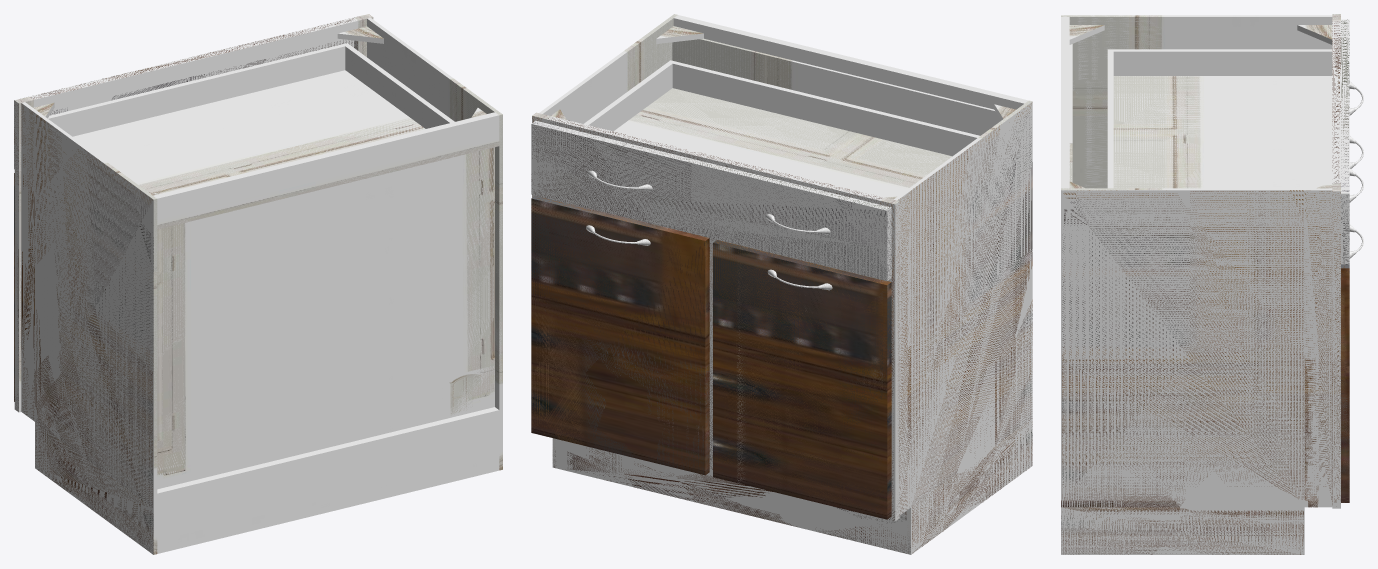
3 renders of one model, left to right at view 1: azimuth 30°, elevation 25°; view 2: azimuth 150°, elevation 25°; view 3: azimuth 270°, elevation 25°, orthographic. The views are drawn at different scales.
Parts seen in each view (by area): view 1: mesh18_mesh18-geometry, mesh14_mesh14-geometry, mesh16_mesh16-geometry, mesh23_mesh23-geometry, mesh17_mesh17-geometry, mesh21_mesh21-geometry, mesh9_mesh9-geometry, mesh2_mesh2-geometry, mesh15_mesh15-geometry, mesh13_mesh13-geometry, mesh1_mesh1-geometry, mesh20_mesh20-geometry (+2 smaller); view 2: mesh33_mesh33-geometry, mesh29_mesh29-geometry, mesh14_mesh14-geometry, mesh25_mesh25-geometry, mesh23_mesh23-geometry, mesh19_mesh19-geometry, mesh18_mesh18-geometry, mesh21_mesh21-geometry, mesh15_mesh15-geometry, mesh17_mesh17-geometry, mesh9_mesh9-geometry, mesh13_mesh13-geometry (+4 smaller); view 3: mesh9_mesh9-geometry, mesh23_mesh23-geometry, mesh14_mesh14-geometry, mesh10_mesh10-geometry, mesh8_mesh8-geometry, mesh20_mesh20-geometry, mesh1_mesh1-geometry, mesh25_mesh25-geometry, mesh29_mesh29-geometry, mesh17_mesh17-geometry, mesh2_mesh2-geometry, mesh21_mesh21-geometry (+4 smaller).
Boxes of the visible parts, <box> form: mesh18_mesh18-geometry: <box>157,147,494,489</box>; mesh14_mesh14-geometry: <box>35,112,157,508</box>; mesh16_mesh16-geometry: <box>157,407,499,553</box>; mesh23_mesh23-geometry: <box>73,70,425,193</box>; mesh17_mesh17-geometry: <box>153,112,499,229</box>; mesh21_mesh21-geometry: <box>48,44,345,136</box>; mesh9_mesh9-geometry: <box>380,27,502,423</box>; mesh2_mesh2-geometry: <box>29,17,358,110</box>; mesh15_mesh15-geometry: <box>35,422,157,554</box>; mesh13_mesh13-geometry: <box>21,102,37,421</box>; mesh1_mesh1-geometry: <box>14,14,373,412</box>; mesh20_mesh20-geometry: <box>343,43,454,128</box>; mesh33_mesh33-geometry: <box>713,240,891,519</box>; mesh29_mesh29-geometry: <box>531,195,709,475</box>; mesh14_mesh14-geometry: <box>907,100,1032,506</box>; mesh25_mesh25-geometry: <box>531,120,891,281</box>; mesh23_mesh23-geometry: <box>613,88,951,197</box>; mesh19_mesh19-geometry: <box>556,439,907,553</box>; mesh18_mesh18-geometry: <box>672,38,1000,135</box>; mesh21_mesh21-geometry: <box>672,61,979,156</box>; mesh15_mesh15-geometry: <box>907,418,1032,554</box>; mesh17_mesh17-geometry: <box>673,15,1028,109</box>; mesh9_mesh9-geometry: <box>553,14,677,123</box>; mesh13_mesh13-geometry: <box>894,189,910,515</box>; mesh9_mesh9-geometry: <box>1061,188,1304,507</box>; mesh23_mesh23-geometry: <box>1113,76,1332,188</box>; mesh14_mesh14-geometry: <box>1061,15,1304,188</box>; mesh10_mesh10-geometry: <box>1061,507,1304,554</box>; mesh8_mesh8-geometry: <box>1304,188,1332,507</box>; mesh20_mesh20-geometry: <box>1107,49,1332,75</box>; mesh1_mesh1-geometry: <box>1332,14,1340,508</box>; mesh25_mesh25-geometry: <box>1341,19,1349,264</box>; mesh29_mesh29-geometry: <box>1341,264,1349,502</box>; mesh17_mesh17-geometry: <box>1061,17,1069,188</box>; mesh2_mesh2-geometry: <box>1332,21,1340,183</box>; mesh21_mesh21-geometry: <box>1107,51,1113,188</box>.
Size of the model in its own units: 0.6403 by 0.6137 by 0.462.
